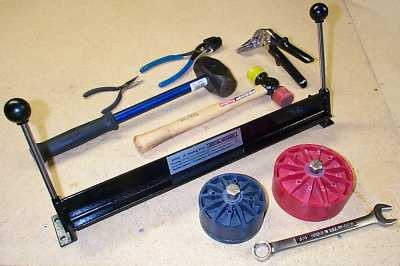hammer: (33, 52, 235, 165), (139, 67, 291, 160)
